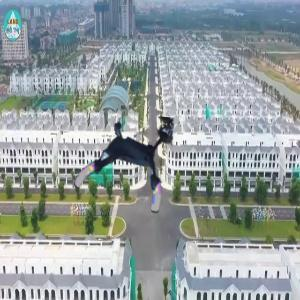drone: (75, 115, 173, 213)
